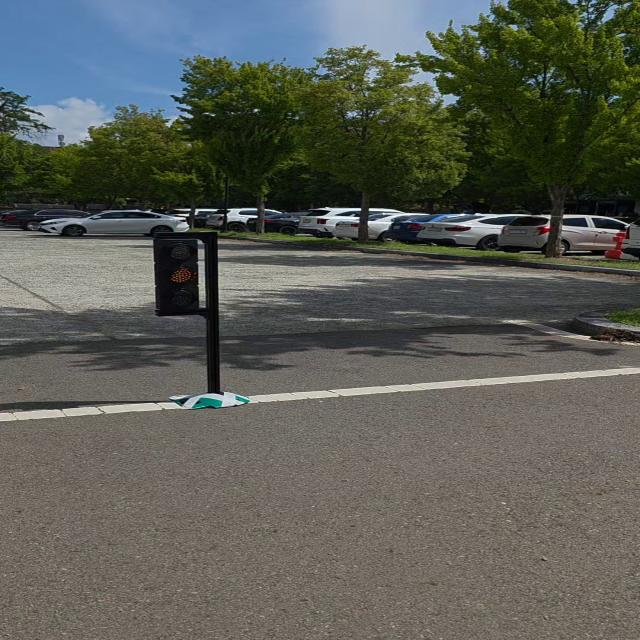yellow: (154, 239, 203, 317)
